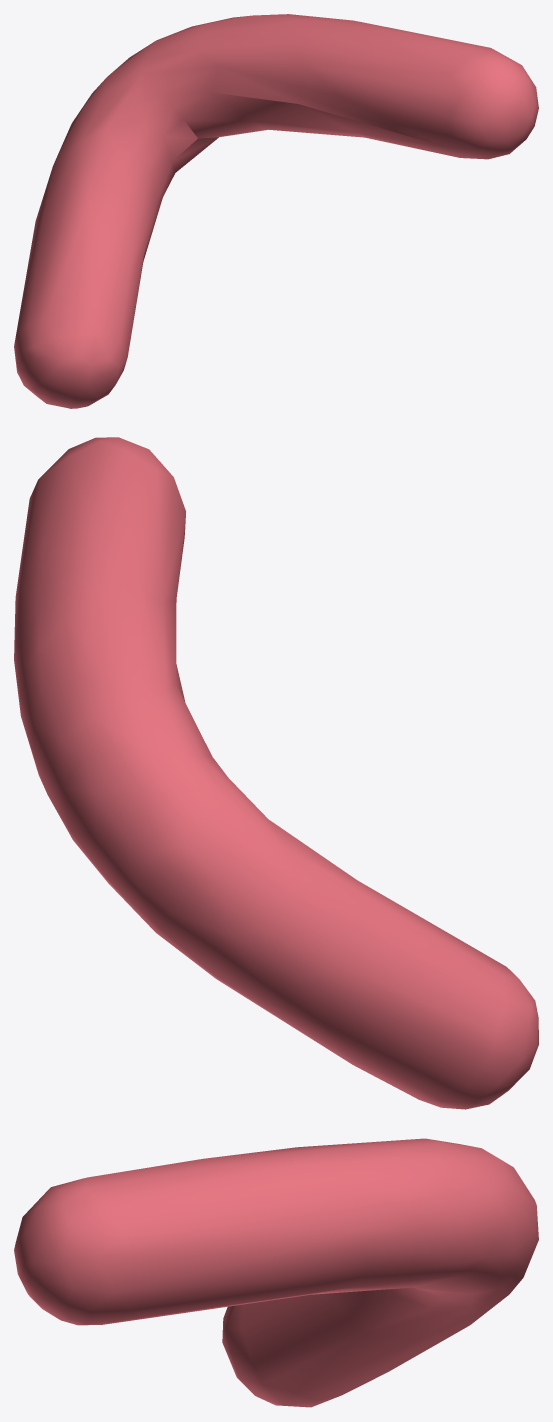
The model's file is fma76469_fj2275.glb.
3 renders of one model, top to bottom at view 1: azimuth 30°, elevation 25°; view 2: azimuth 150°, elevation 25°; view 3: azimuth 270°, elevation 25°, orthographic. The views are drawn at different scales.
Visible parts, largest first — view 1: FMA76469_FJ2275; view 2: FMA76469_FJ2275; view 3: FMA76469_FJ2275.
Part boxes in pixels (x1,y1,x2,y2): FMA76469_FJ2275: (14, 14, 538, 408); FMA76469_FJ2275: (14, 437, 538, 1109); FMA76469_FJ2275: (14, 1138, 538, 1407).
Bounding box in the file's own units: 0.011 × 0.00808 × 0.00902.
